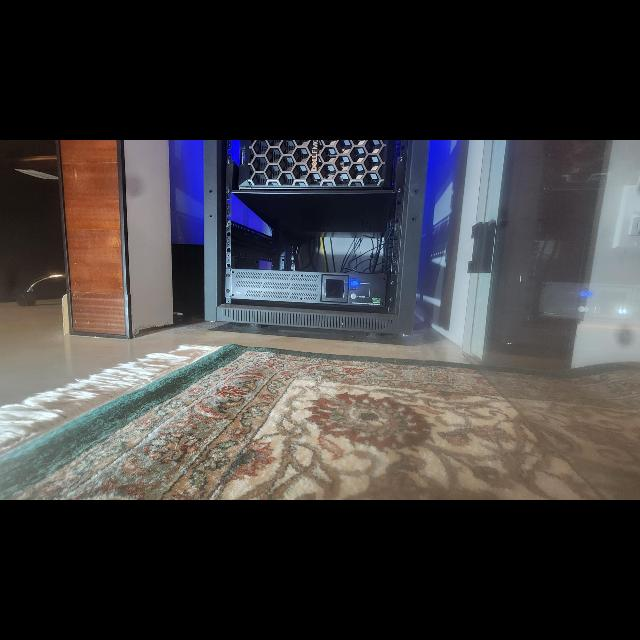Server: (208, 140, 430, 342)
